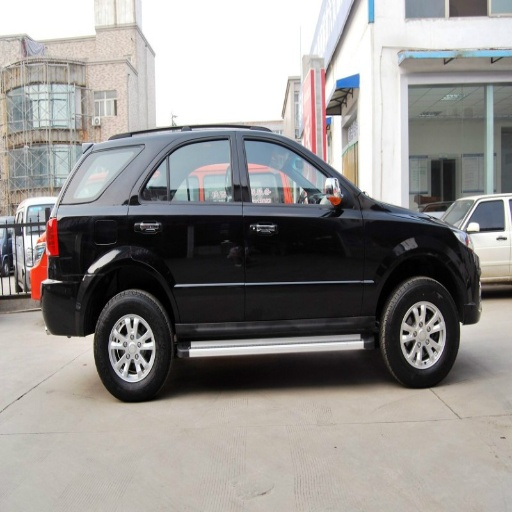back_right_door: (129, 129, 244, 323)
